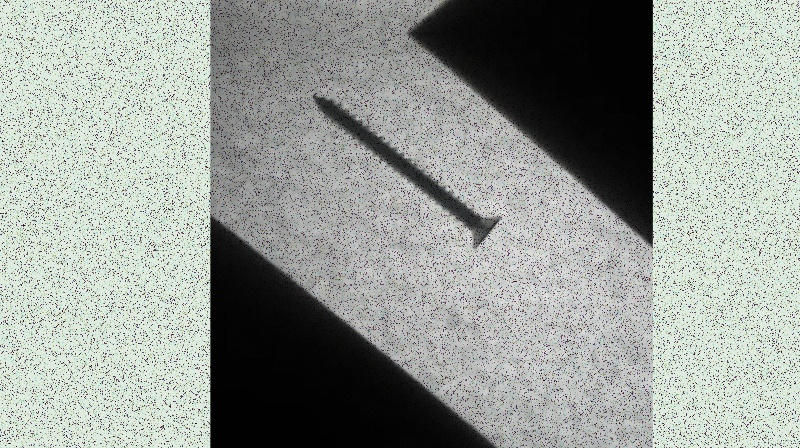S002: (307, 89, 503, 253)
